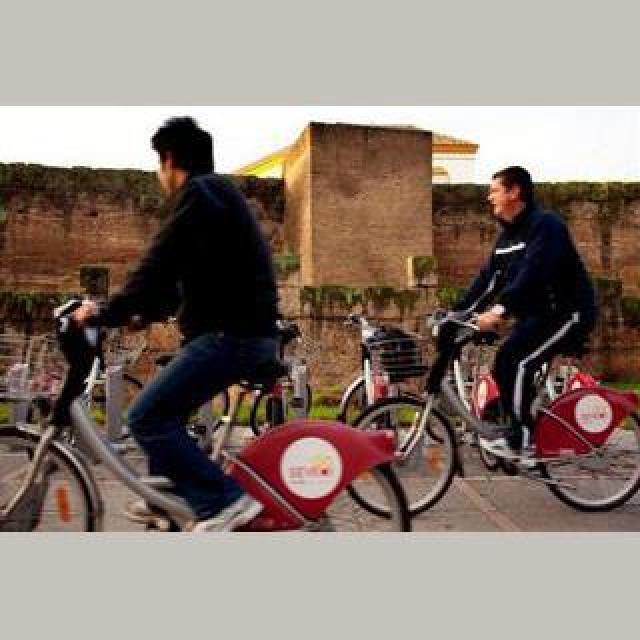MC-Bike: (66, 116, 292, 528), (440, 166, 596, 460)
Person: (0, 316, 358, 530), (352, 304, 640, 518)
